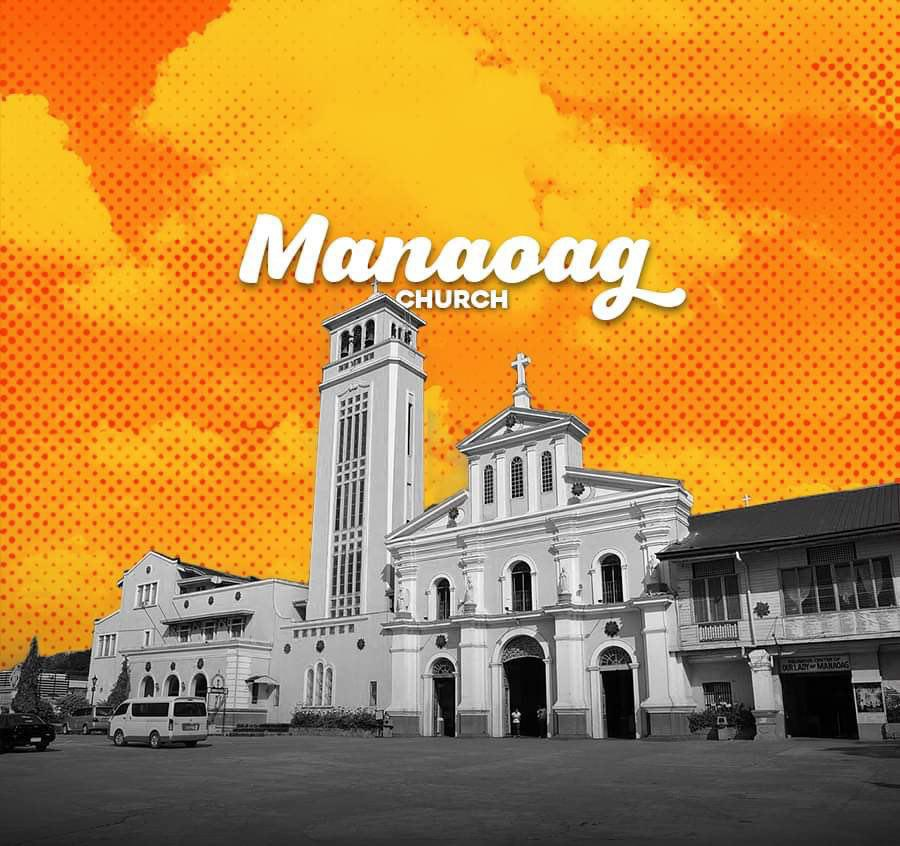manaoag_church_manaoag_pangasinan: (305, 268, 699, 740)
